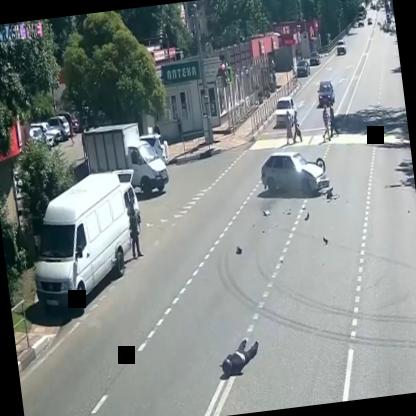accident: (255, 142, 334, 218), (212, 323, 266, 384)
